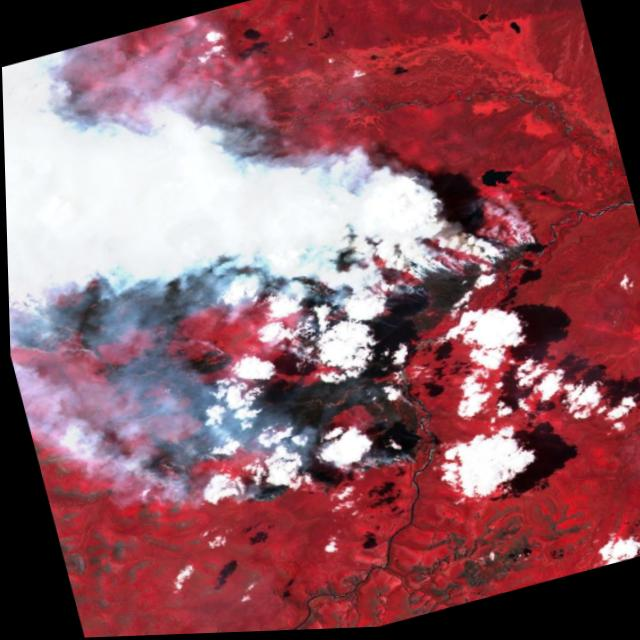fire: (3, 113, 597, 569)
